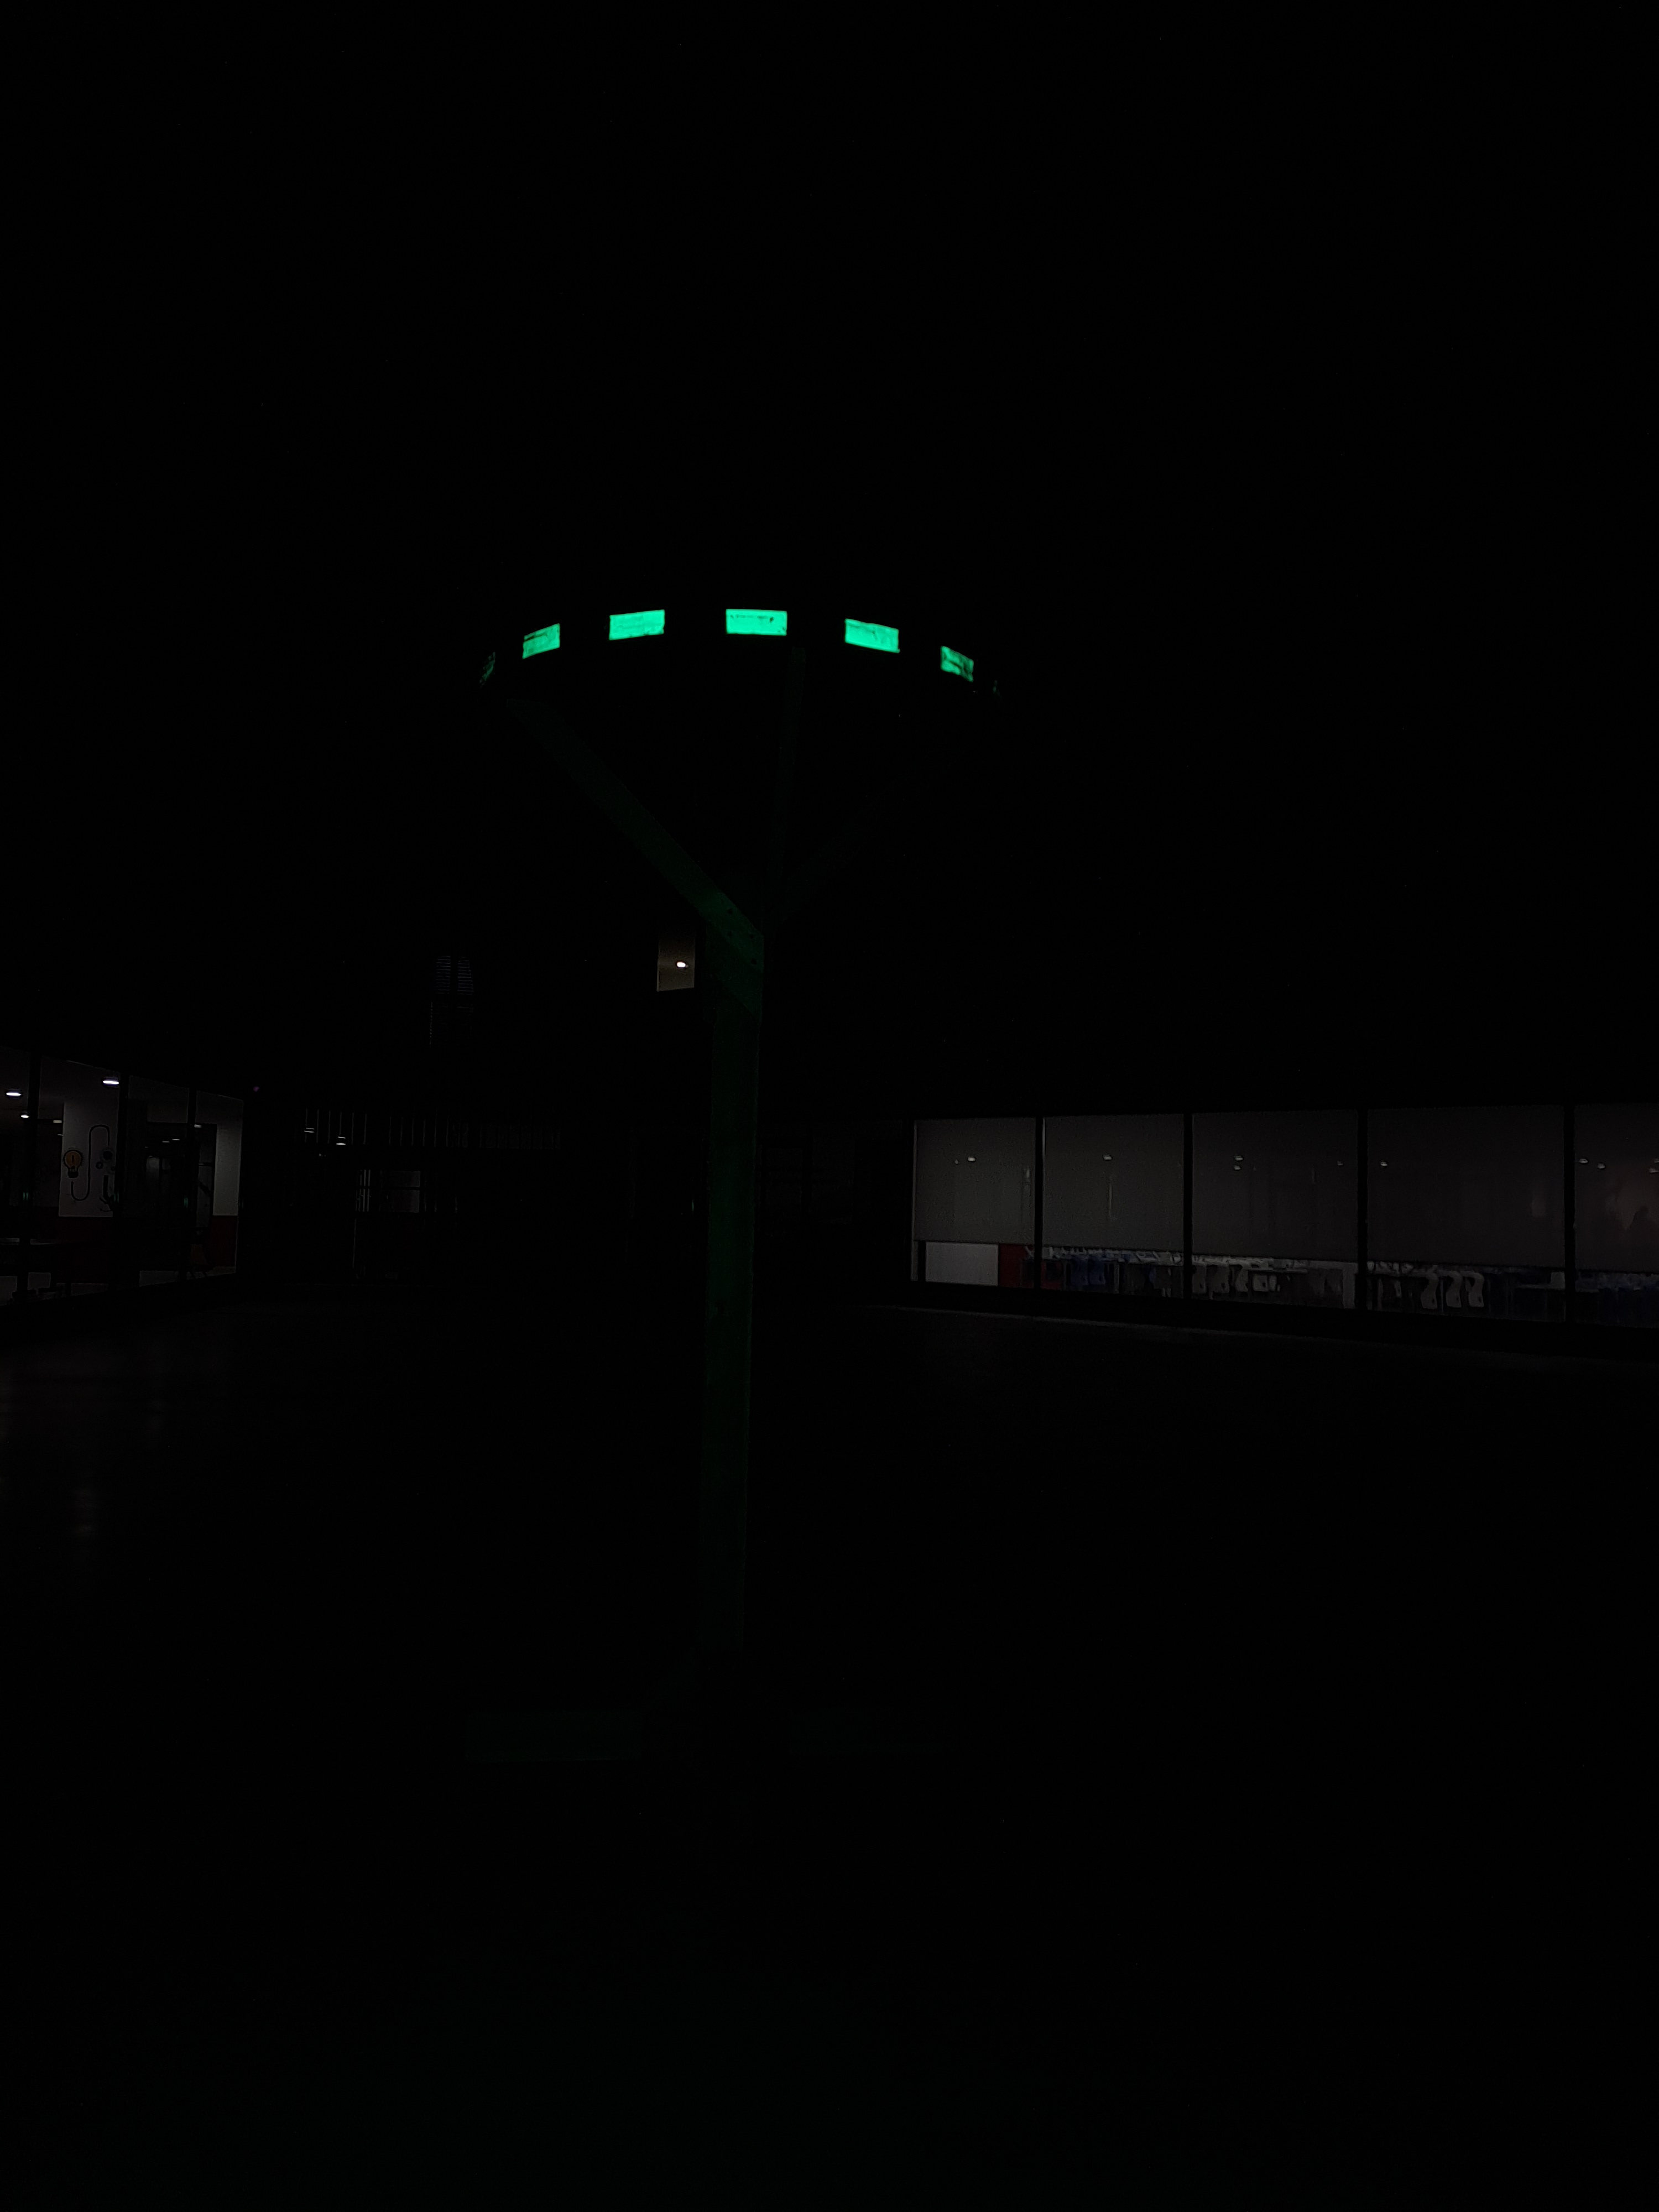hoop: (514, 594, 979, 702)
